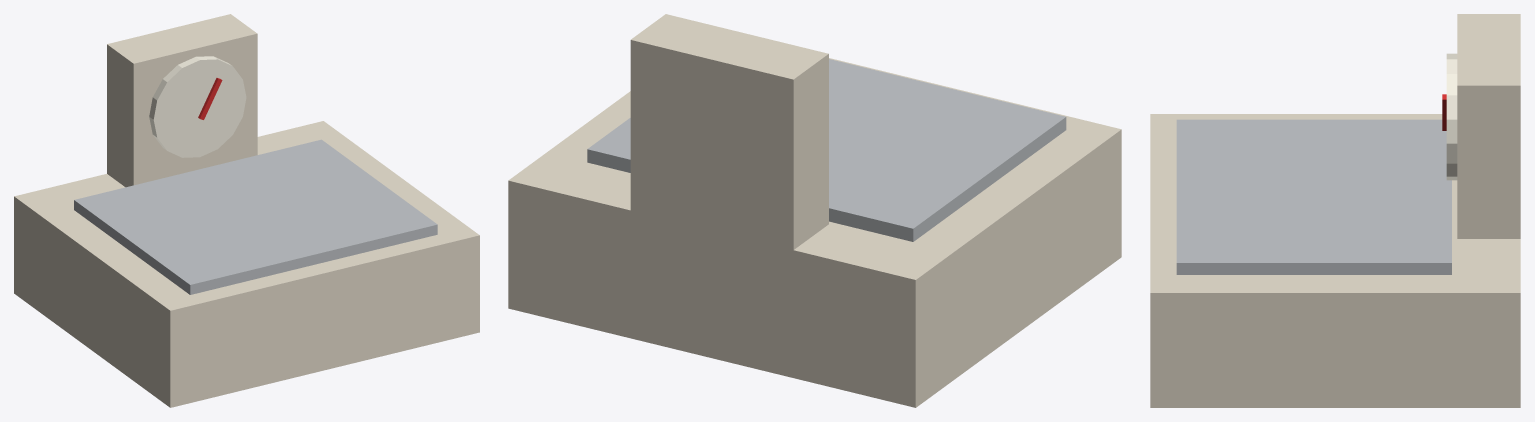
The model's file is ice_scale.glb.
3 renders of one model, left to right at view 1: azimuth 30°, elevation 25°; view 2: azimuth 150°, elevation 25°; view 3: azimuth 270°, elevation 25°, orthographic. The views are drawn at different scales.
Parts seen in each view (by area): view 1: base_scale_body, plate_scale_plate, tower_scale_body, dial_scale_dial; view 2: base_scale_body, tower_scale_body, plate_scale_plate; view 3: base_scale_body, plate_scale_plate, tower_scale_body, dial_scale_dial.
Part boxes in pixels (x1,y1,x2,y2): base_scale_body: [14, 121, 479, 407]; plate_scale_plate: [74, 139, 437, 294]; tower_scale_body: [107, 14, 257, 187]; dial_scale_dial: [149, 56, 246, 157]; base_scale_body: [508, 58, 1121, 407]; tower_scale_body: [630, 14, 828, 249]; plate_scale_plate: [587, 59, 1066, 241]; base_scale_body: [1150, 114, 1520, 407]; plate_scale_plate: [1176, 119, 1451, 274]; tower_scale_body: [1457, 14, 1520, 238]; dial_scale_dial: [1446, 53, 1457, 180].
Bounding box in the file's own units: 0.4 × 0.295 × 0.35.
